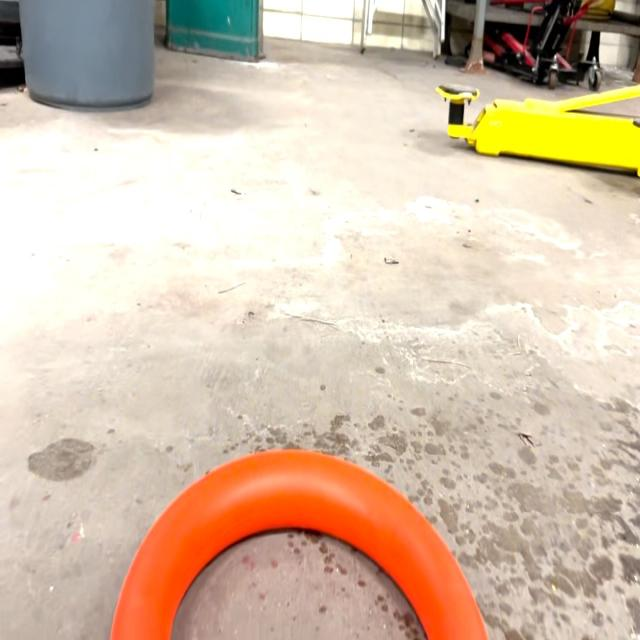note: (108, 463, 486, 640)
